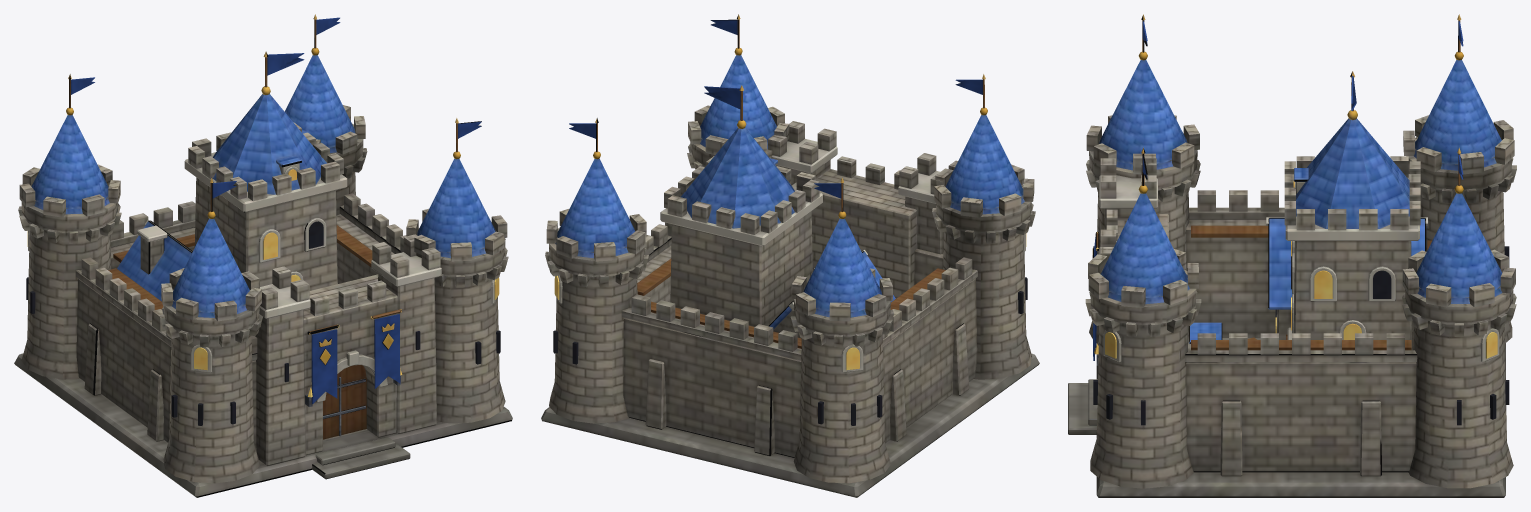
The model's file is castle.glb.
3 views of the same model, side by side, from view 1: azimuth 30°, elevation 25°; view 2: azimuth 150°, elevation 25°; view 3: azimuth 270°, elevation 25° (orthographic). The views are drawn at different scales.
Parts seen in each view (by area): view 1: Static_Mesh, Anim_Banners; view 2: Static_Mesh, Anim_Banners; view 3: Static_Mesh, Anim_Banners.
Boxes of the visible parts, left/top/right/bottom form: Static_Mesh: left=14, top=14, right=512, bottom=497; Anim_Banners: left=71, top=17, right=481, bottom=403; Static_Mesh: left=541, top=14, right=1039, bottom=497; Anim_Banners: left=569, top=19, right=982, bottom=198; Static_Mesh: left=1068, top=14, right=1516, bottom=497; Anim_Banners: left=1093, top=21, right=1463, bottom=360.
Bounding box in the file's own units: 11.74 × 10.68 × 12.22.
Materials: 2 (2 with a texture image).
